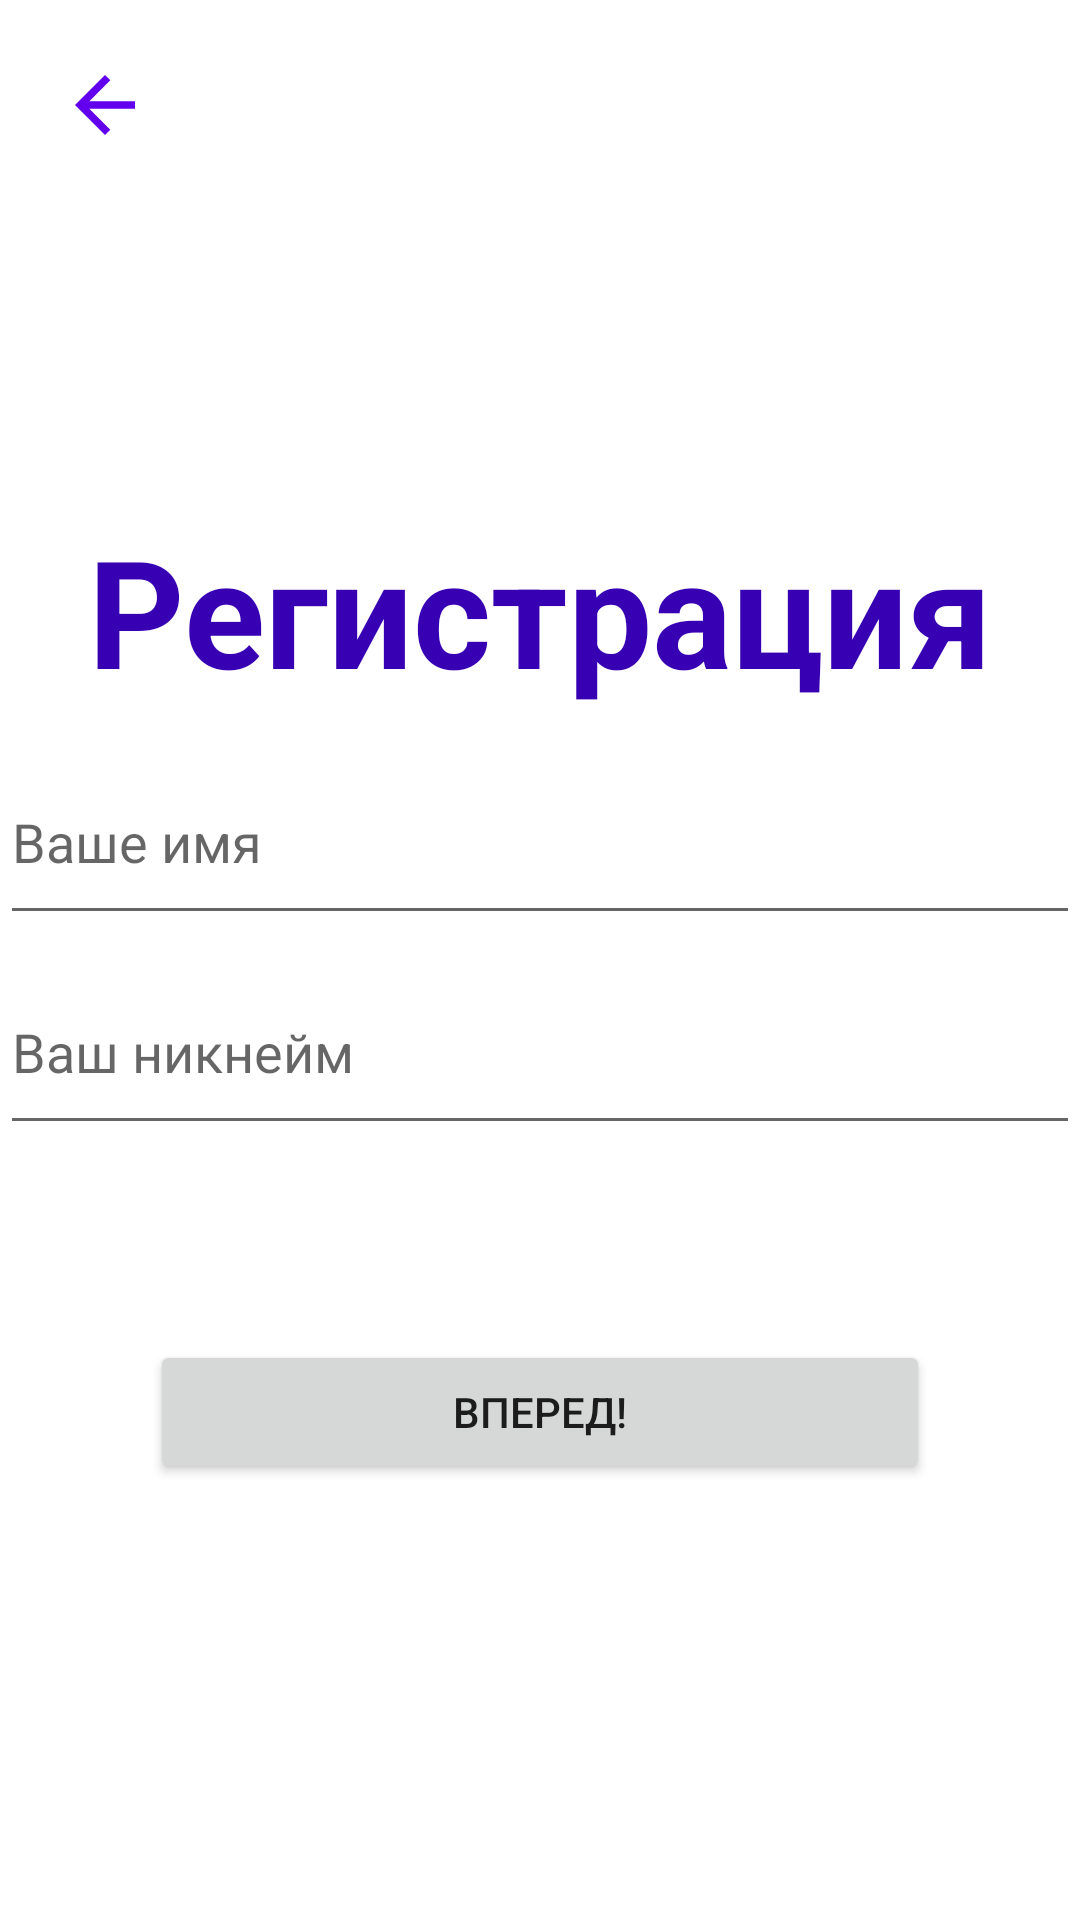

Where icons sit on this 1080px×1920px app screen, as (x1, y1, x2, y2):
back: (75, 75, 135, 135)
